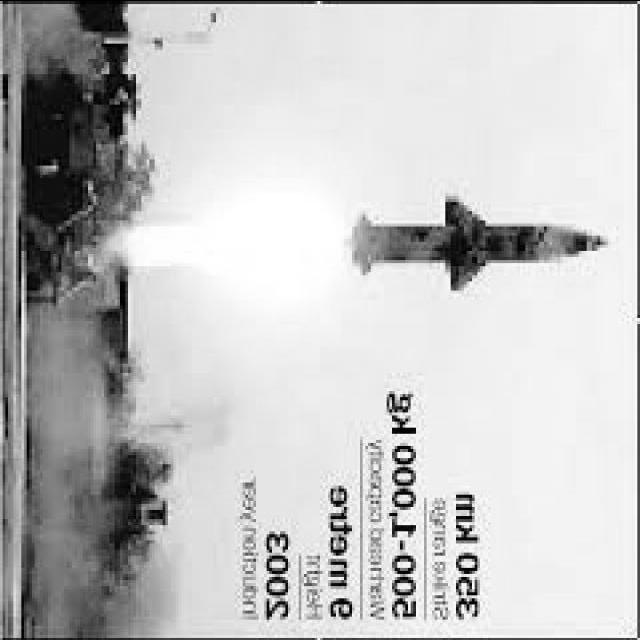missile: (343, 201, 615, 292), (354, 216, 624, 268)
